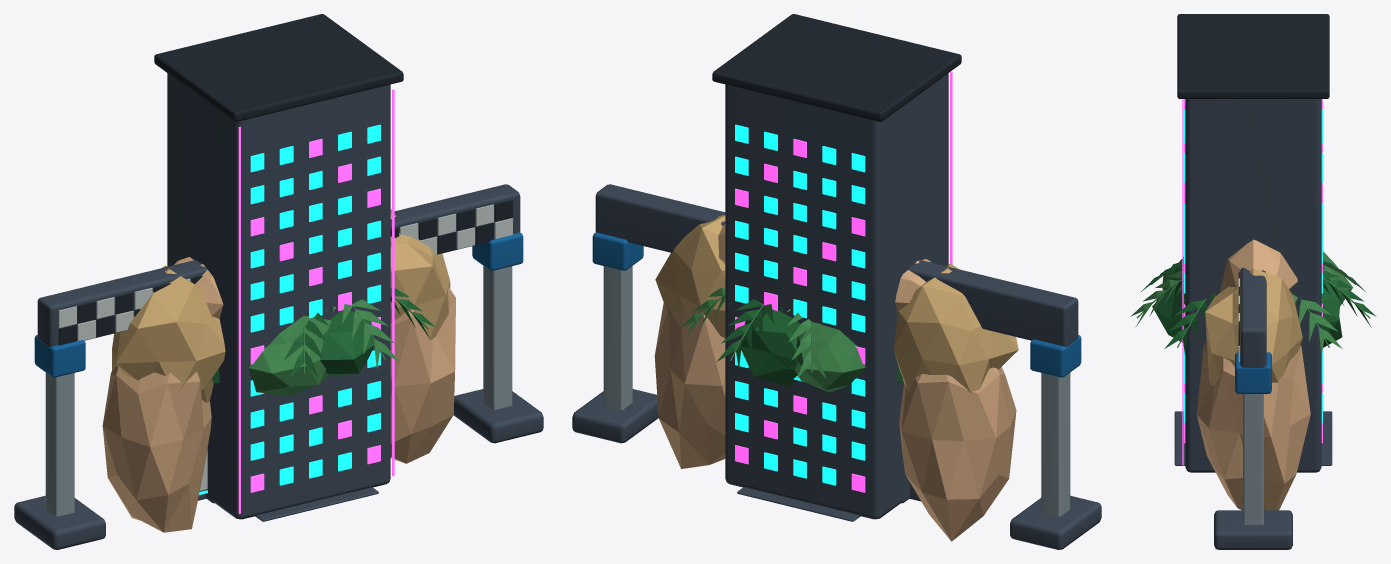
Rendered from environment-kit.glb.
The picture shows the model from 3 angles, left to right: view 1: azimuth 30°, elevation 25°; view 2: azimuth 150°, elevation 25°; view 3: azimuth 270°, elevation 25°; orthographic projection. The views are drawn at different scales.
Parts seen in each view (by area): view 1: NeonTower_Surface, DesertArch_Surface, RaceGantry_Surface, BroadleafTree_Surface, PalmTree_Surface, BoostPad_Surface; view 2: NeonTower_Surface, DesertArch_Surface, RaceGantry_Surface, BroadleafTree_Surface, PalmTree_Surface, BoostPad_Surface; view 3: NeonTower_Surface, DesertArch_Surface, RaceGantry_Surface, PalmTree_Surface, BroadleafTree_Surface, BoostPad_Surface.
Boxes of the visible parts, x1,y1,x2,y2 form: NeonTower_Surface: (154,14,403,519); DesertArch_Surface: (102,209,455,532); RaceGantry_Surface: (14,184,543,549); BroadleafTree_Surface: (212,310,373,395); PalmTree_Surface: (284,285,435,378); BoostPad_Surface: (255,487,378,521); NeonTower_Surface: (712,14,961,519); DesertArch_Surface: (654,215,1018,541); RaceGantry_Surface: (572,184,1101,549); BroadleafTree_Surface: (741,309,903,392); PalmTree_Surface: (680,288,826,378); BoostPad_Surface: (737,487,860,521); NeonTower_Surface: (1177,14,1329,472); DesertArch_Surface: (1196,239,1310,510); RaceGantry_Surface: (1214,267,1292,549); PalmTree_Surface: (1130,259,1376,355); BroadleafTree_Surface: (1152,251,1352,347); BoostPad_Surface: (1174,411,1332,465).
Bounding box in the file's own units: 10.1 × 8.55 × 4.7.
